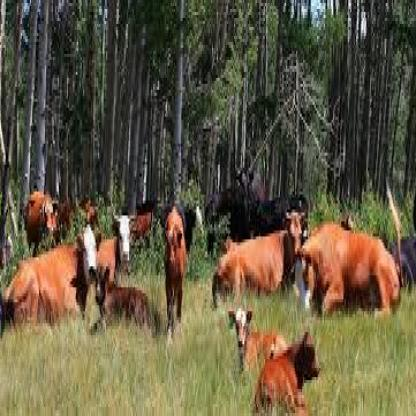cow: (291, 220, 400, 319), (1, 224, 102, 326), (212, 210, 304, 308), (254, 329, 322, 416), (89, 265, 161, 337), (228, 308, 288, 377), (96, 210, 136, 288), (164, 207, 186, 344), (25, 192, 59, 258), (232, 160, 254, 238), (206, 187, 230, 253)
